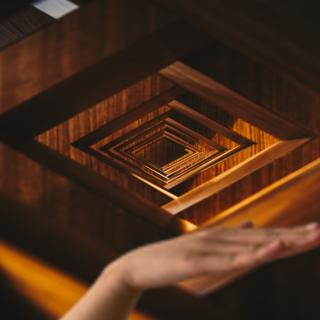WAIT: (111, 217, 320, 291)
